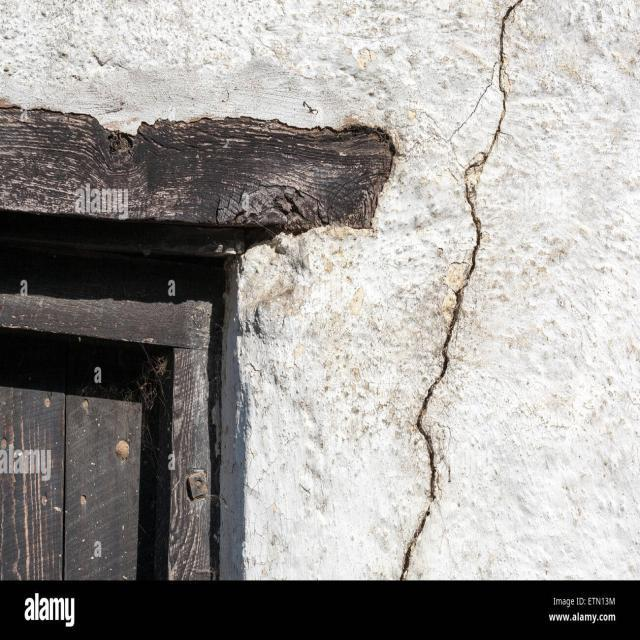crack: (396, 0, 524, 579), (413, 390, 444, 516)
